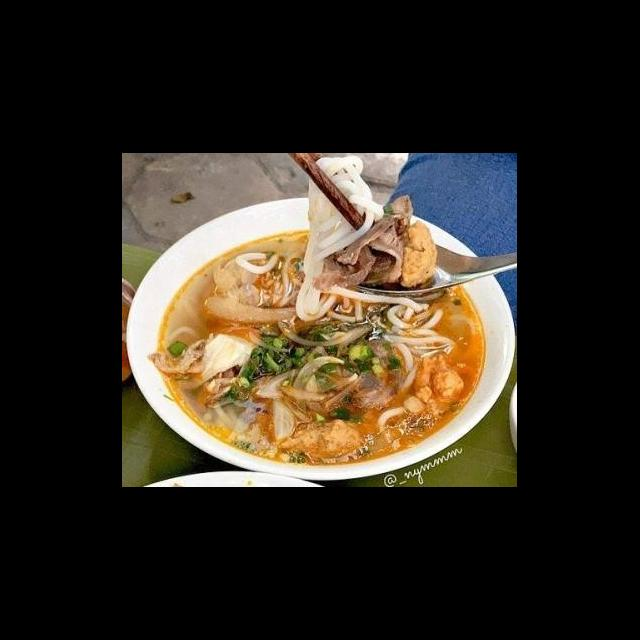bun: (290, 154, 388, 326), (322, 283, 458, 395), (202, 399, 276, 456), (370, 404, 408, 450), (234, 247, 282, 276)
bun bo: (156, 176, 498, 481)
thit bo: (336, 192, 418, 269), (306, 238, 379, 293), (353, 218, 408, 288)
